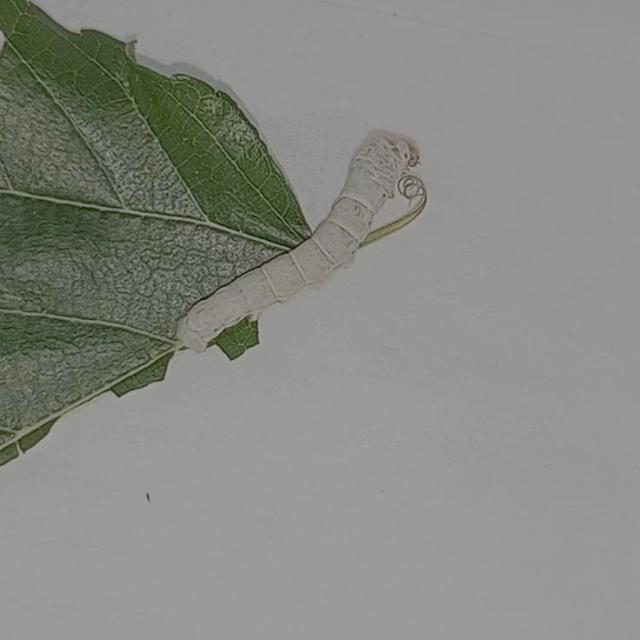Healthy: (142, 113, 443, 384)
